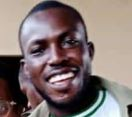without_facemask: (31, 59, 105, 101)
